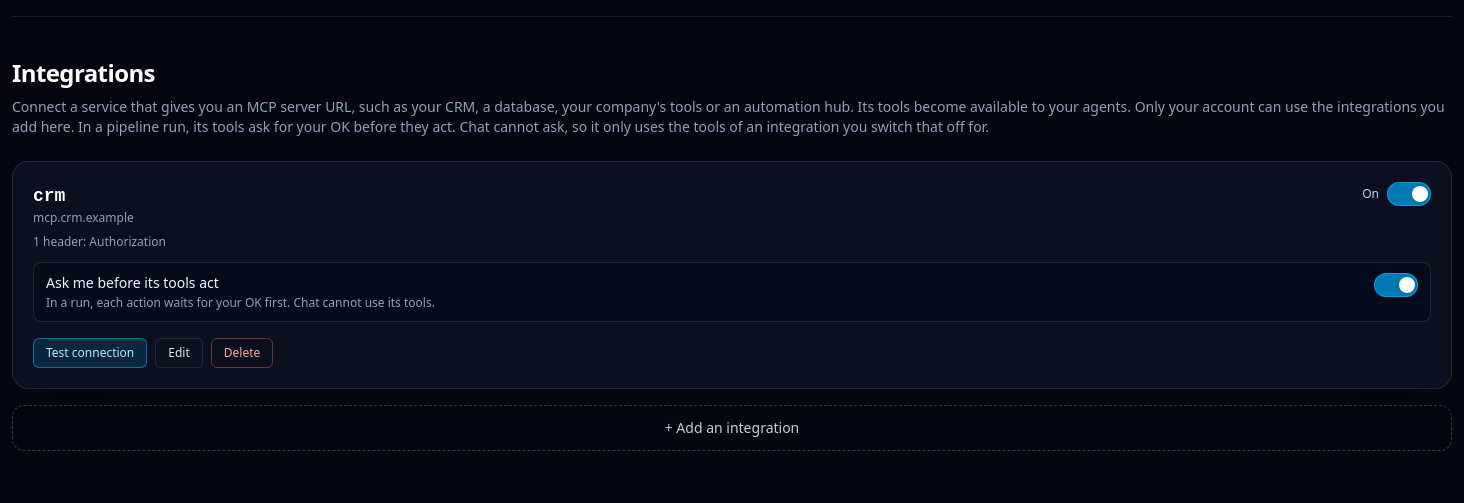
Test case: an integration asks before its tools act › switches off, saving only that field, and says what it now means
Click the switch named "Ask me before its tools act": (1396, 285) [1374, 273, 1418, 297]
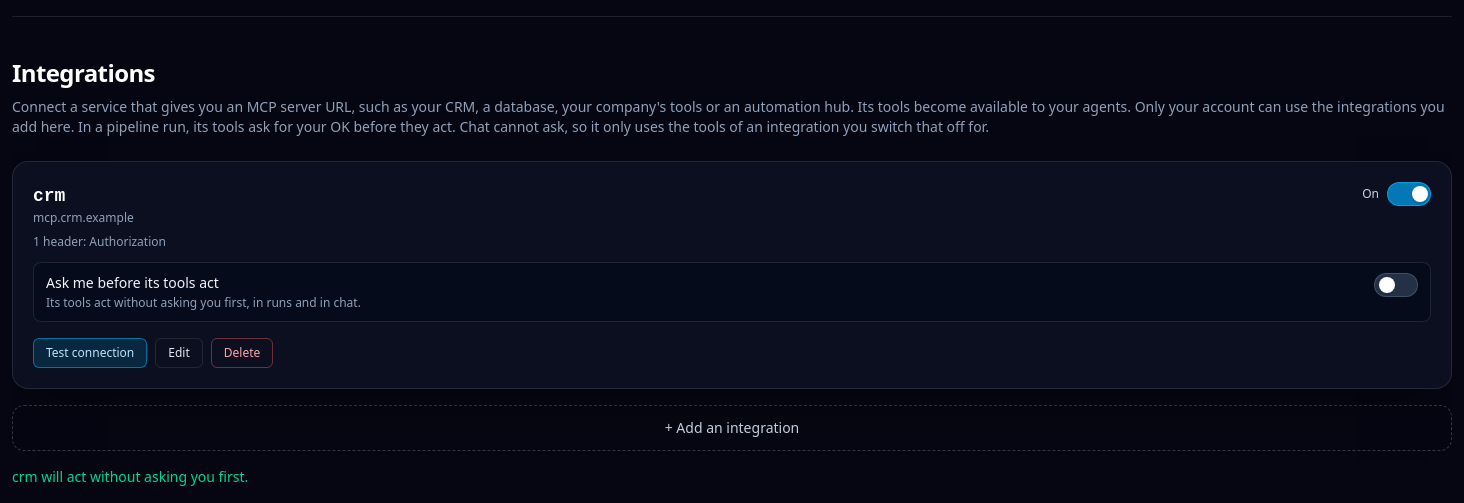
expect the switch named "Ask me before its tools act" is not checked: met, box [1374, 273, 1418, 297]
expect the text "crm will act without asking you first." is shown: met, box [12, 467, 248, 486]
